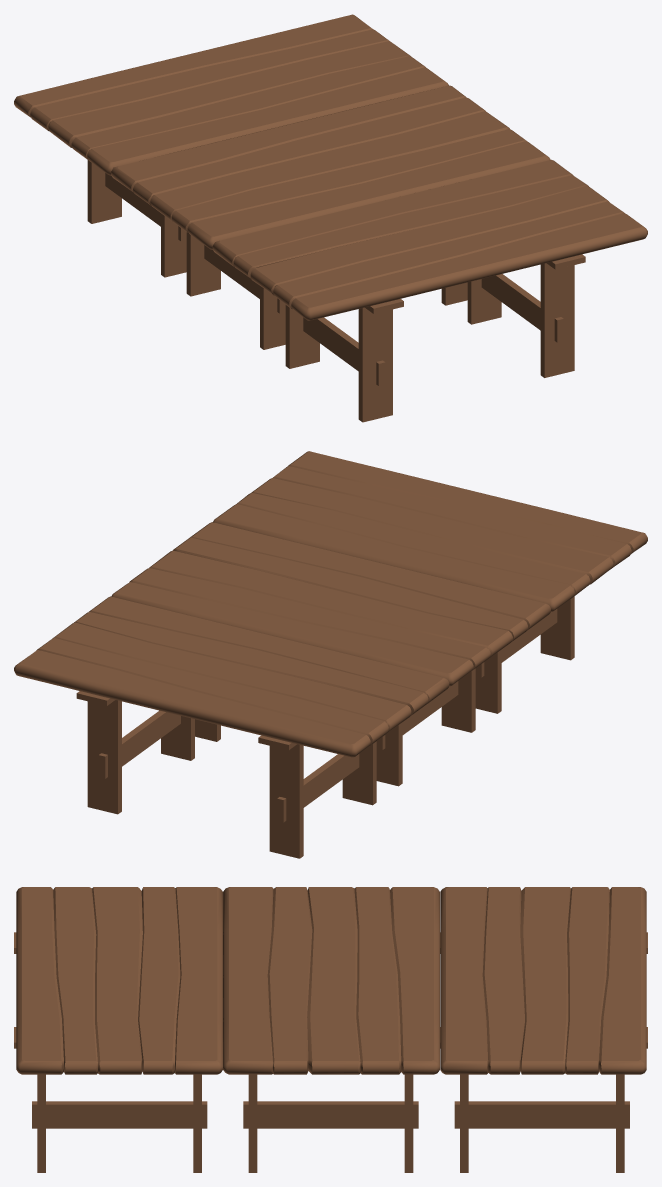
File: SE_099_wooden_table_var1.glb
The picture shows the model from 3 angles, top to bottom: view 1: azimuth 30°, elevation 25°; view 2: azimuth 150°, elevation 25°; view 3: azimuth 270°, elevation 25°; orthographic projection. The views are drawn at different scales.
Visible parts, largest first — view 1: table, legs, support_bottom, support_top; view 2: table, legs, support_bottom, support_top; view 3: table, support_bottom, legs.
Boxes of the visible parts, x1,y1,x2,y2 form: table: (14, 14, 647, 320); legs: (87, 160, 574, 422); support_bottom: (105, 173, 563, 385); support_top: (365, 254, 585, 313); table: (14, 451, 647, 757); legs: (87, 596, 574, 858); support_bottom: (98, 609, 557, 822); support_top: (76, 691, 296, 750); table: (16, 887, 646, 1074); support_bottom: (32, 1101, 629, 1128); legs: (37, 1074, 624, 1172).
Bounding box in the file's own units: 2.99 × 1.13 × 4.5.
